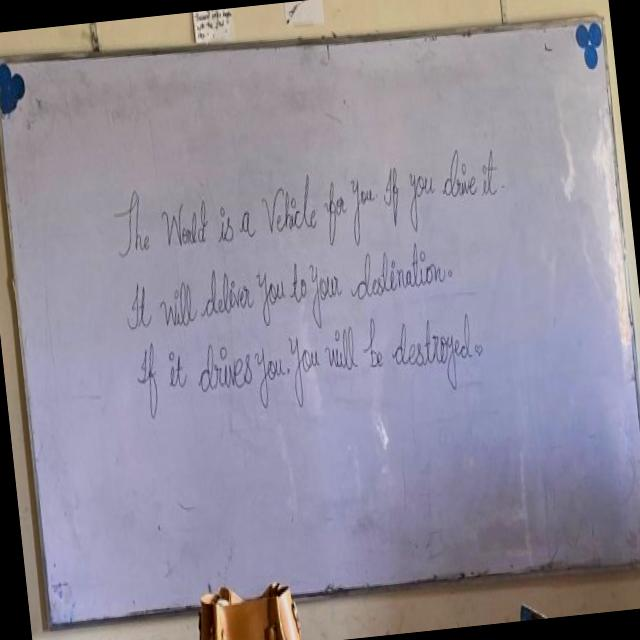White-board: (0, 25, 640, 630)
